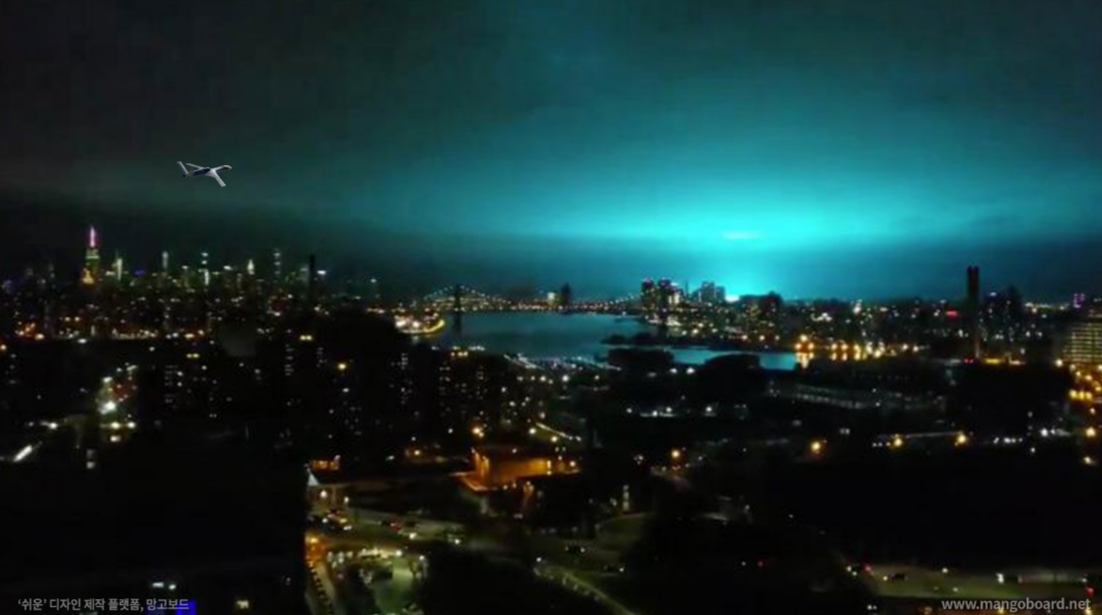military drone: (175, 160, 232, 187)
